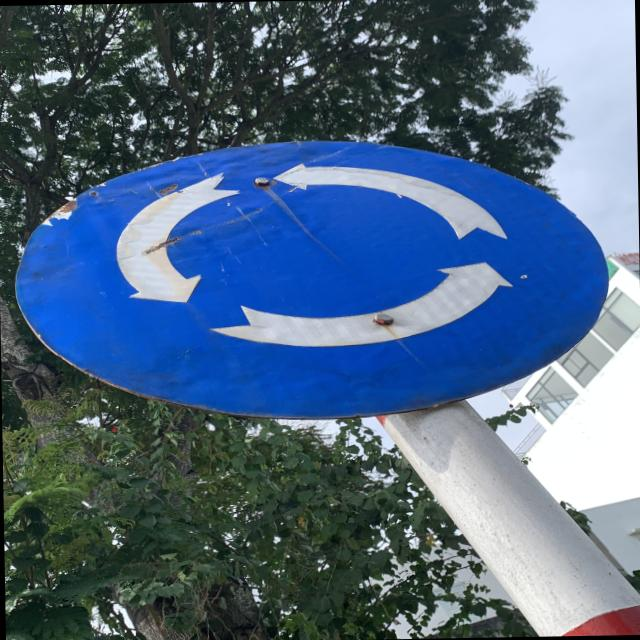Xe_Bus: (16, 134, 614, 424)
